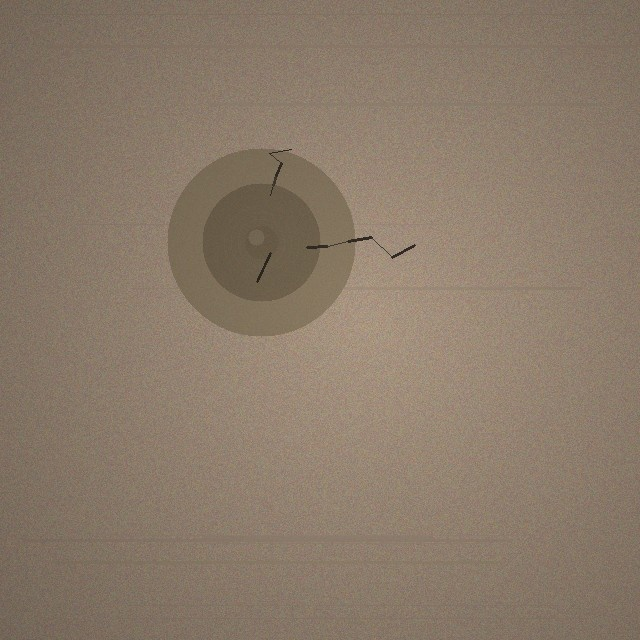crack: (167, 148, 355, 336)
